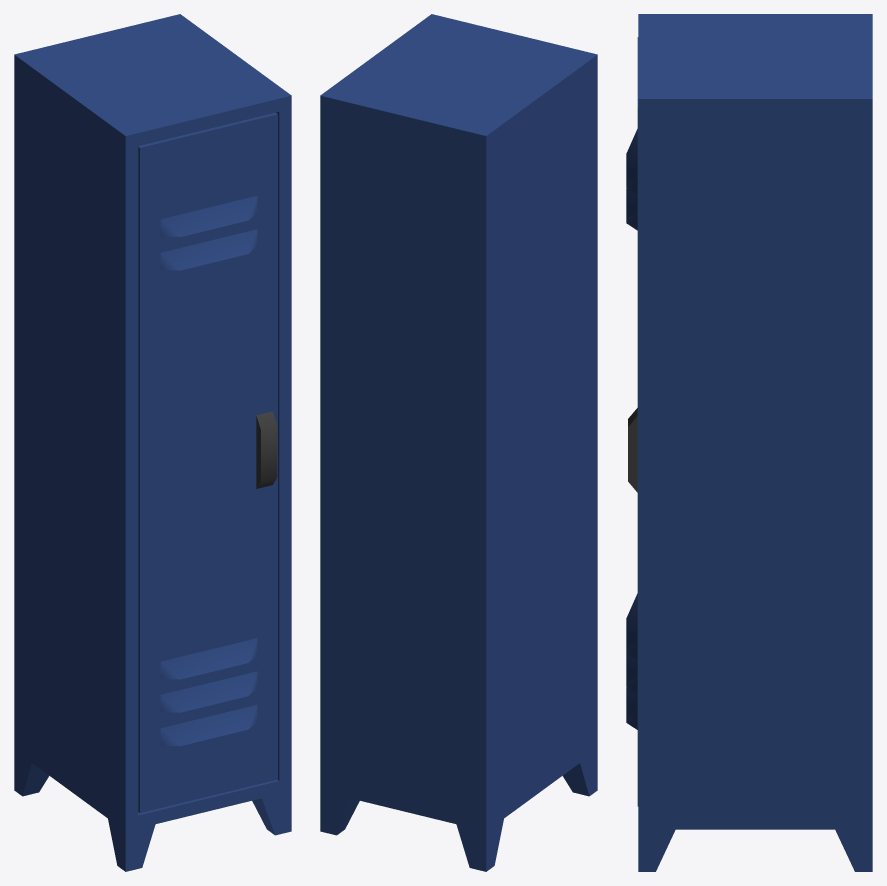
The model's file is Locker_Single.fbx.
3 renders of one model, left to right at view 1: azimuth 30°, elevation 25°; view 2: azimuth 150°, elevation 25°; view 3: azimuth 270°, elevation 25°, orthographic. The views are drawn at different scales.
Visible parts, largest first — view 1: Locker_Single; view 2: Locker_Single; view 3: Locker_Single.
Boxes of the visible parts, x1,y1,x2,y2 form: Locker_Single: (14, 14, 291, 871); Locker_Single: (320, 14, 597, 871); Locker_Single: (626, 14, 872, 871).
Bounding box in the file's own units: 63.66 × 269 × 77.76.
